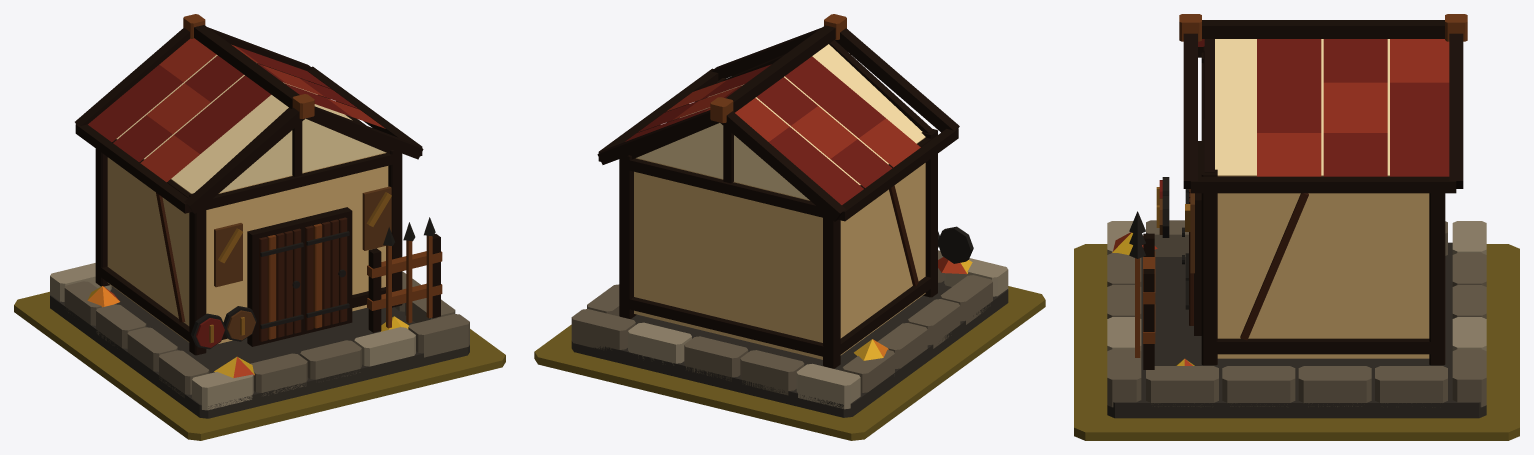
File: barracks_t1.glb
The picture shows the model from 3 angles, left to right: view 1: azimuth 30°, elevation 25°; view 2: azimuth 150°, elevation 25°; view 3: azimuth 270°, elevation 25°; orthographic projection. The views are drawn at different scales.
Parts seen in each view (by area): view 1: MMR | barracks | T01 Architecture.001, MMR | barracks | Tier 01 Ground.001, MMR | barracks | T01 Banner Flag 1.001, MMR | barracks | T01 Banner Flag 2.001, MMR | barracks | T01 Autumn Dressing.001; view 2: MMR | barracks | T01 Architecture.001, MMR | barracks | Tier 01 Ground.001, MMR | barracks | T01 Autumn Dressing.001; view 3: MMR | barracks | T01 Architecture.001, MMR | barracks | Tier 01 Ground.001.
Boxes of the visible parts, x1=… form: MMR | barracks | T01 Architecture.001: x1=50, y1=14, x2=469, y2=418; MMR | barracks | Tier 01 Ground.001: x1=14, y1=291, x2=505, y2=440; MMR | barracks | T01 Banner Flag 1.001: x1=214, y1=223, x2=242, y2=287; MMR | barracks | T01 Banner Flag 2.001: x1=362, y1=186, x2=391, y2=250; MMR | barracks | T01 Autumn Dressing.001: x1=87, y1=286, x2=408, y2=377; MMR | barracks | T01 Architecture.001: x1=571, y1=14, x2=1008, y2=417; MMR | barracks | Tier 01 Ground.001: x1=534, y1=286, x2=1045, y2=440; MMR | barracks | T01 Autumn Dressing.001: x1=854, y1=257, x2=972, y2=360; MMR | barracks | T01 Architecture.001: x1=1107, y1=14, x2=1486, y2=418; MMR | barracks | Tier 01 Ground.001: x1=1074, y1=244, x2=1519, y2=440.
Size of the model in its own units: 2.35 by 1.91 by 2.35.
1 material, 1 textured.
